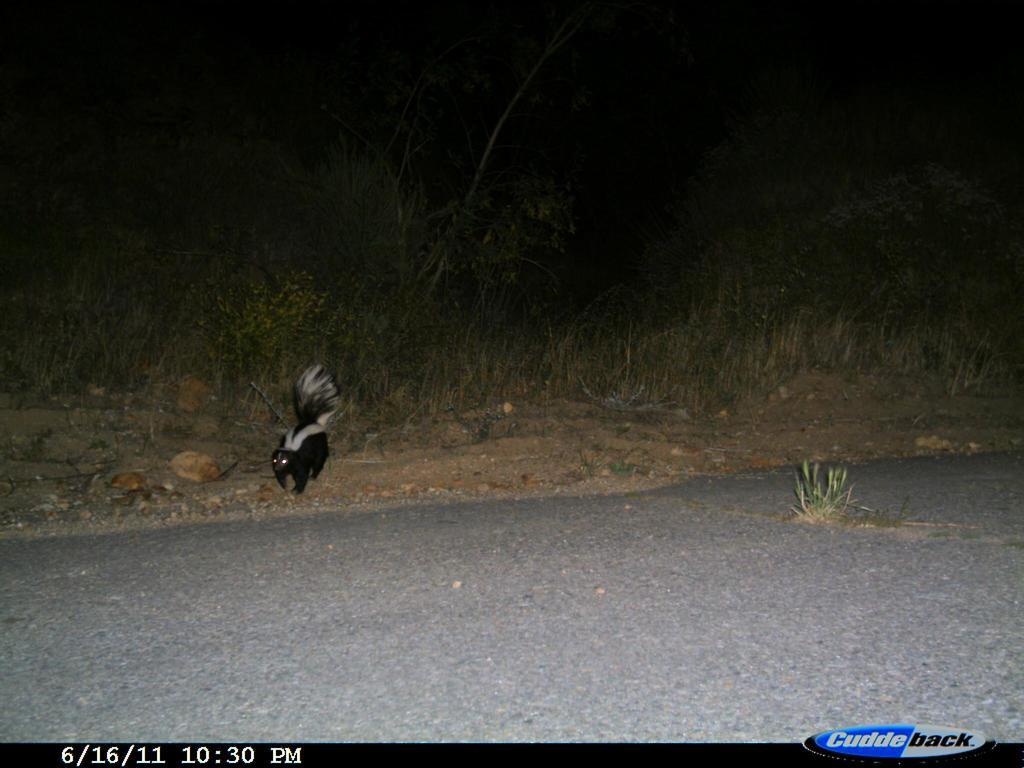skunk: (255, 323, 367, 525)
